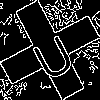U: (25, 25, 79, 83)
